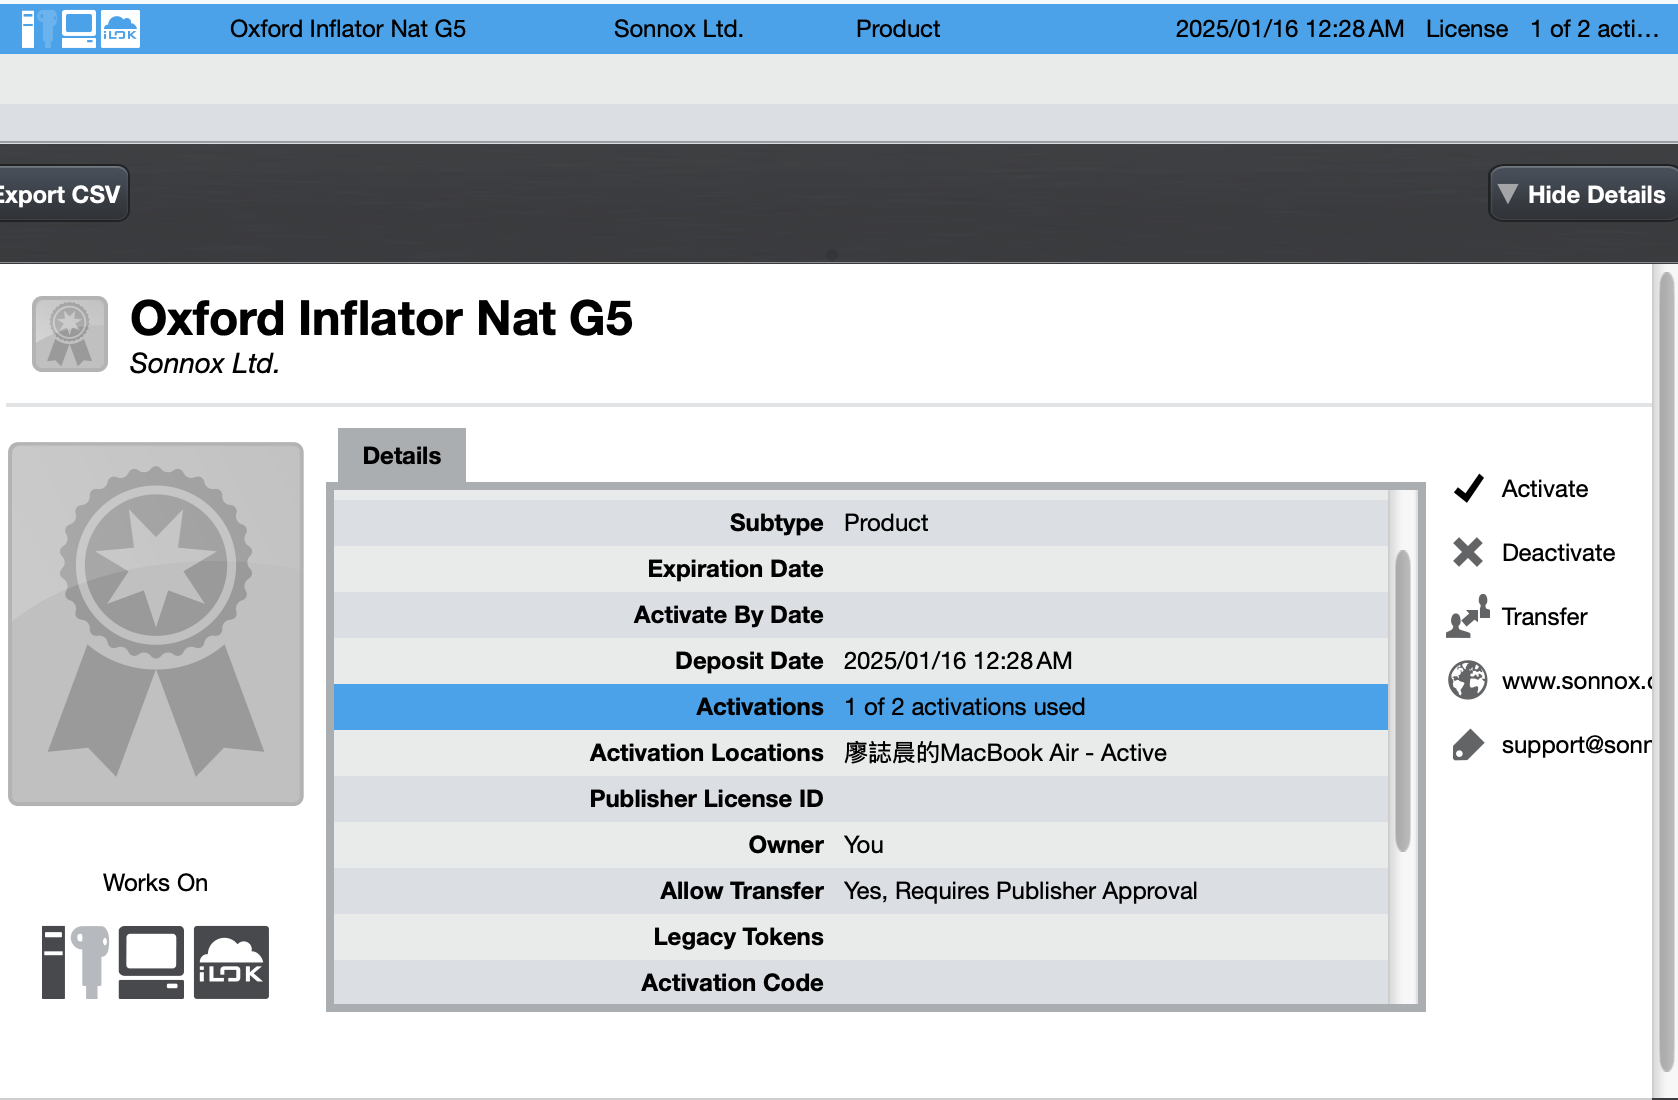person: (518, 446, 1100, 943)
